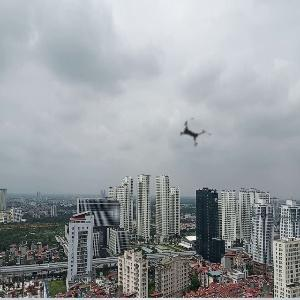drone: (168, 106, 222, 160)
